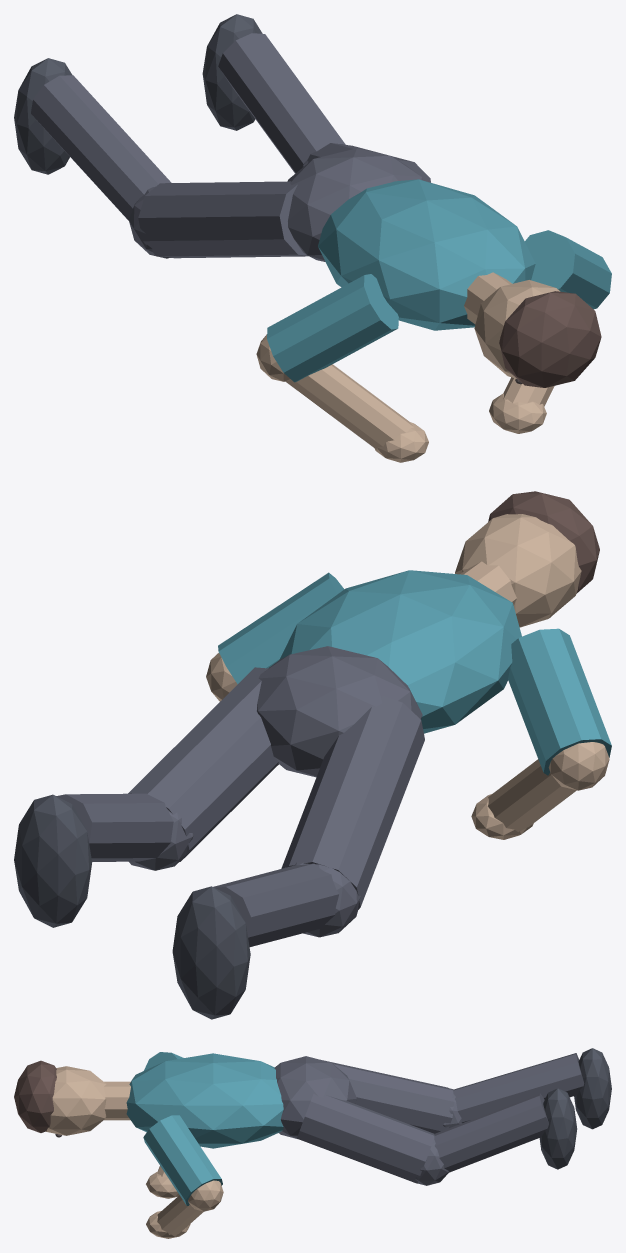
3 renders of one model, top to bottom at view 1: azimuth 30°, elevation 25°; view 2: azimuth 150°, elevation 25°; view 3: azimuth 270°, elevation 25°, orthographic. The views are drawn at different scales.
Parts seen in each view (by area): view 1: world; view 2: world; view 3: world.
Boxes of the visible parts, x1,y1,x2,y2 form: world: [14, 14, 611, 462]; world: [14, 491, 611, 1019]; world: [14, 1048, 611, 1238].
Size of the model in its own units: 0.93 by 0.565 by 2.
